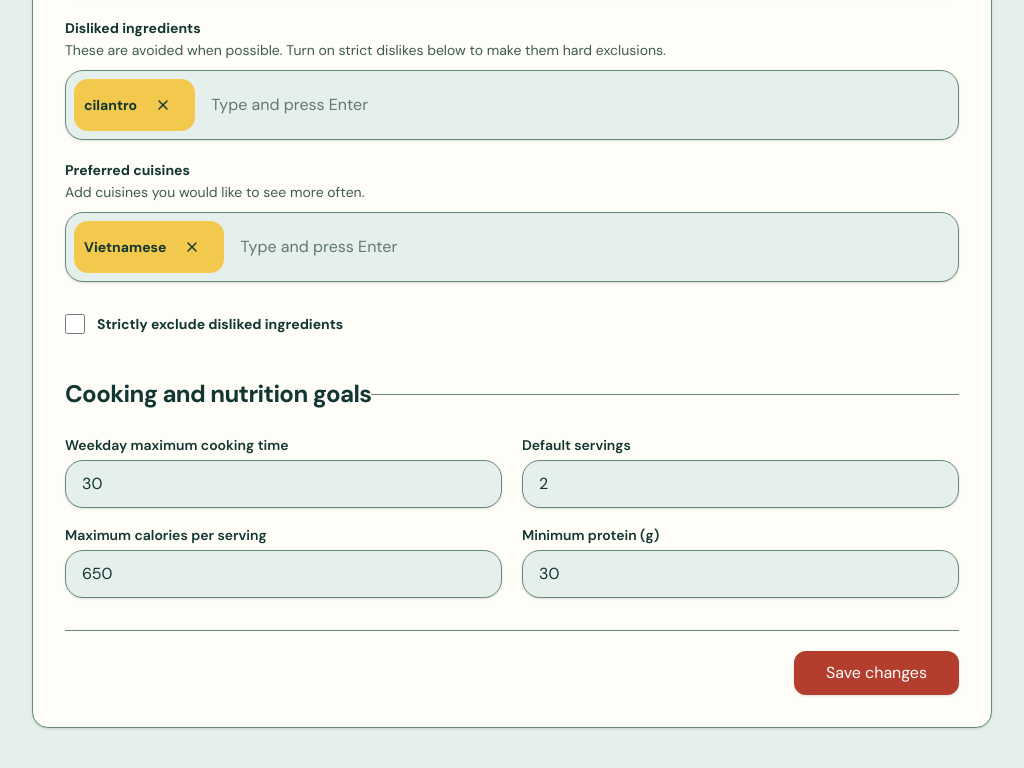
it: FoodPreferencesPage › blocks minimum protein values with more precision than the API accepts
(page scrolled)
Replace the text in the number field labelled "Minimum protein (g)" with "30.123" at [740, 574], box 522,550 -> 959,598
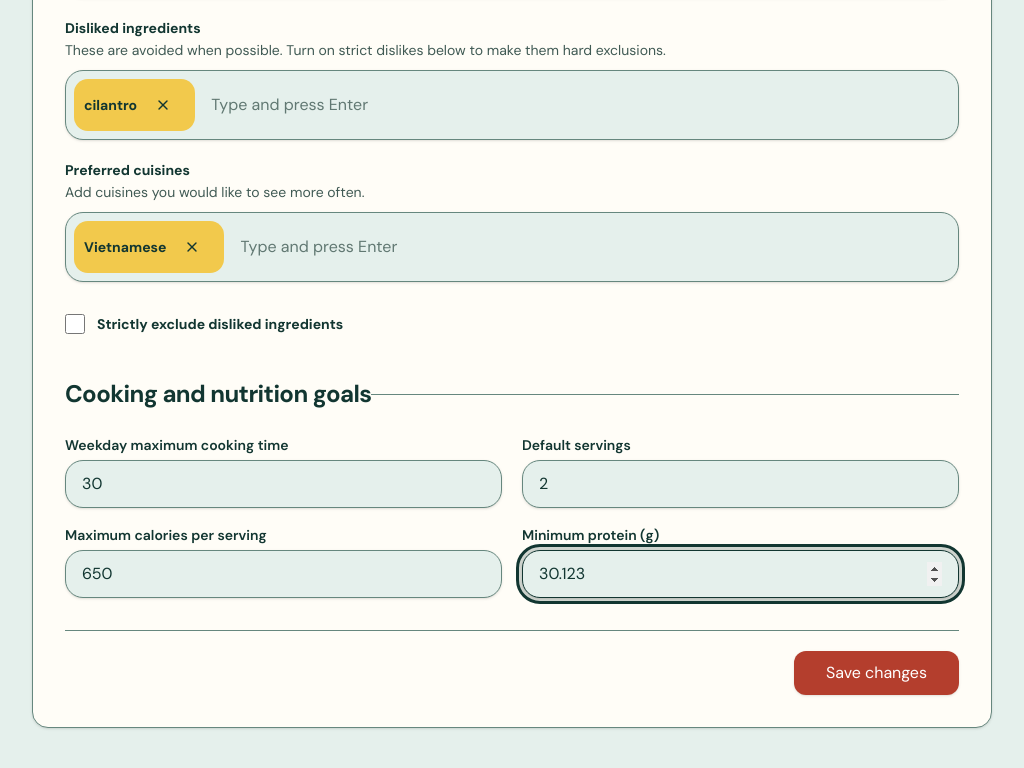
Click the button "Save changes" at [876, 673], box 794,651 -> 959,695
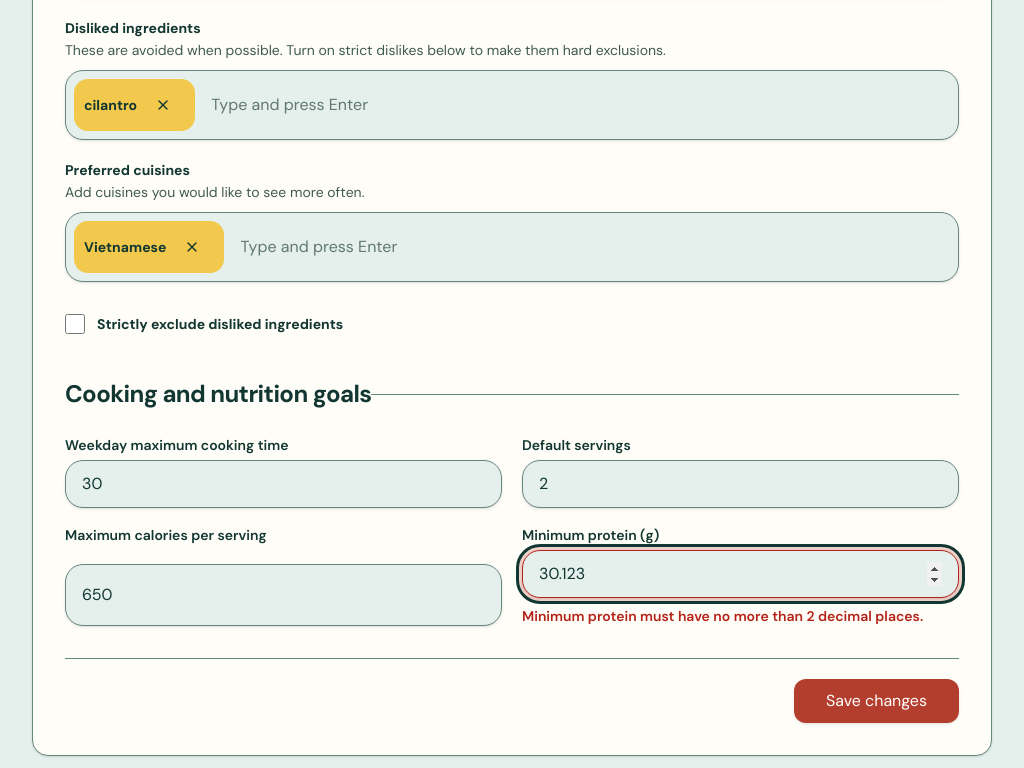
Now the text "Minimum protein must have no more than 2 decimal places." is shown, box 522,606 -> 959,626
